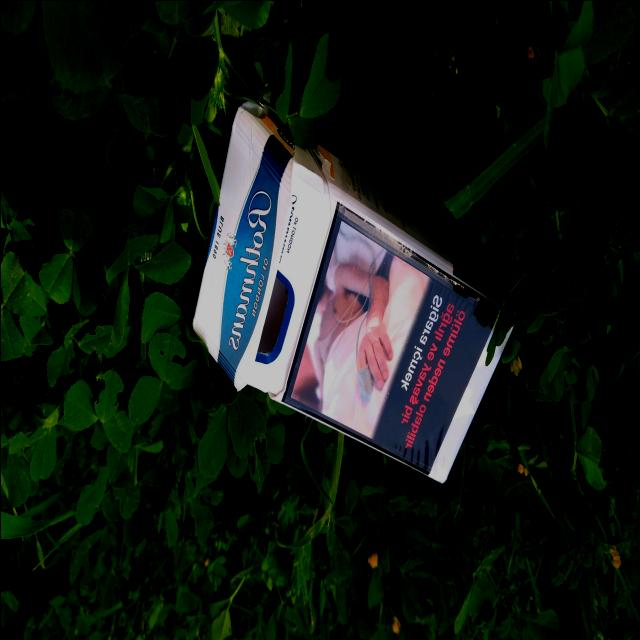Other carton: (188, 96, 516, 484)
Plastic film: (282, 152, 516, 483)
